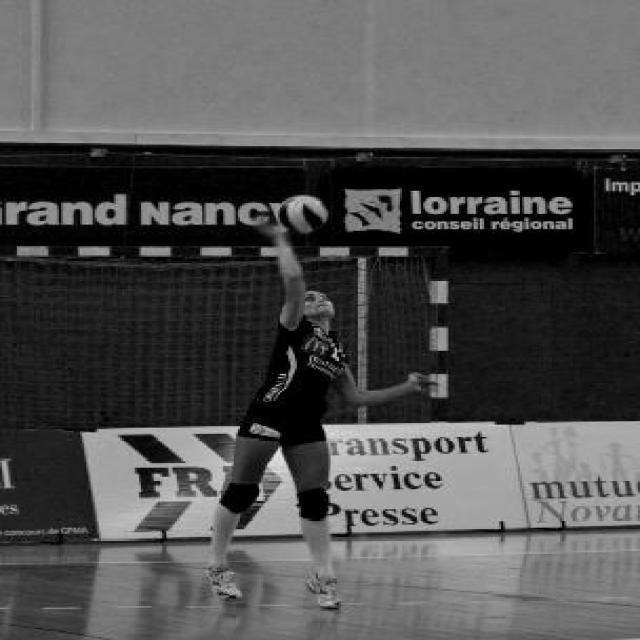volleyball: (276, 194, 330, 236)
